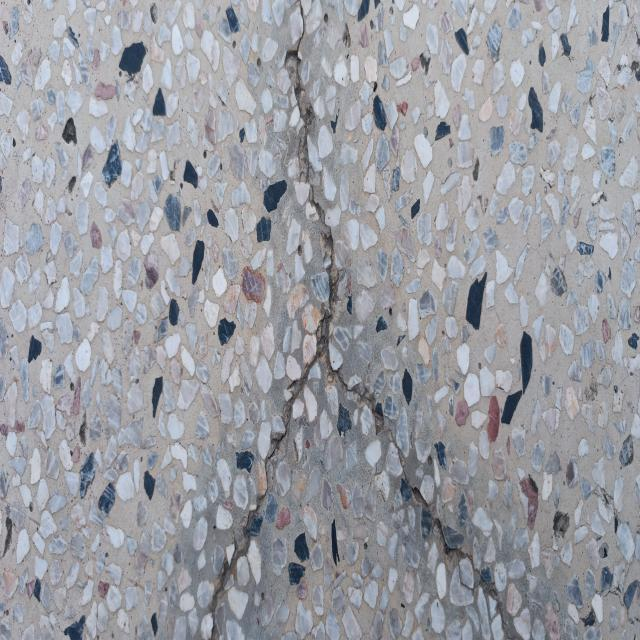branched cracks: (201, 0, 472, 639), (474, 567, 522, 639)
